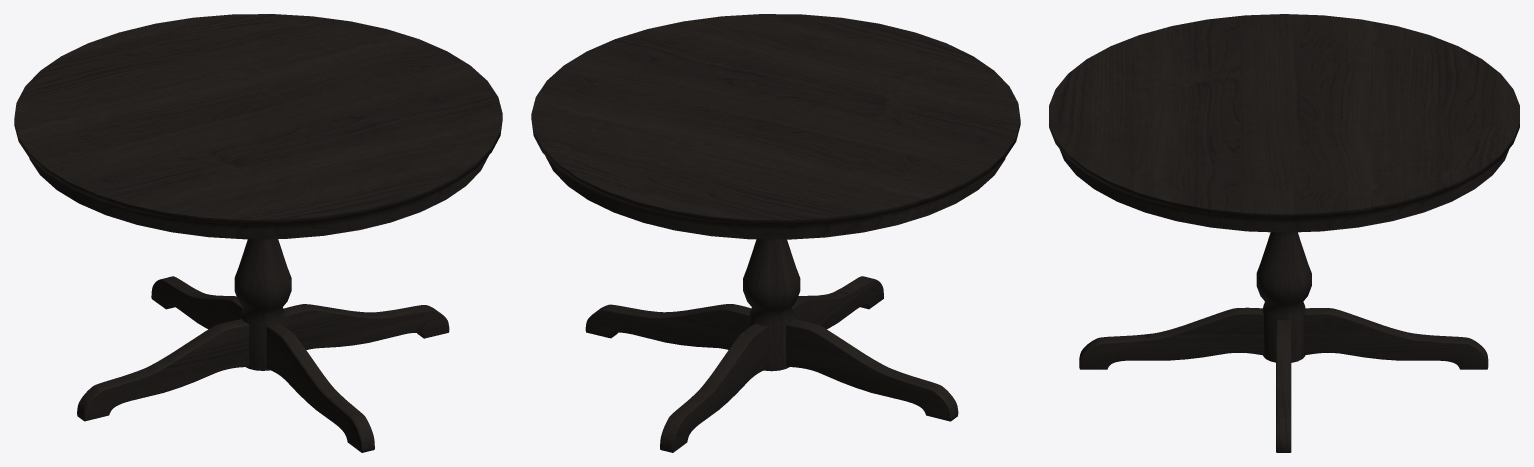
Rendered from Table 8.FBX.
The picture shows the model from 3 angles, left to right: view 1: azimuth 30°, elevation 25°; view 2: azimuth 150°, elevation 25°; view 3: azimuth 270°, elevation 25°; orthographic projection. The views are drawn at different scales.
Parts seen in each view (by area): view 1: table 8; view 2: table 8; view 3: table 8.
Boxes of the visible parts, x1=… form: table 8: x1=14, y1=14, x2=502, y2=452; table 8: x1=531, y1=14, x2=1020, y2=452; table 8: x1=1049, y1=14, x2=1519, y2=452.
Bounding box in the file's own units: 110 × 63.87 × 109.
Materials: 1 (1 with a texture image).
